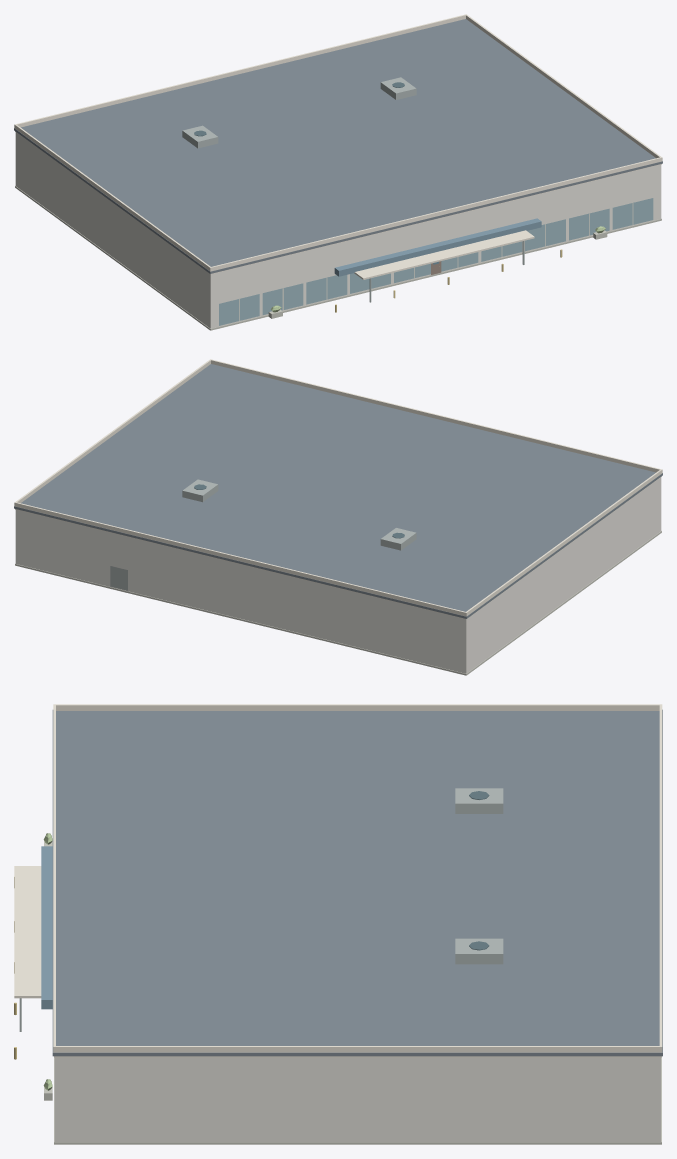
The model's file is shop-retail-warehouse.glb.
3 renders of one model, top to bottom at view 1: azimuth 30°, elevation 25°; view 2: azimuth 150°, elevation 25°; view 3: azimuth 270°, elevation 25°, orthographic. The views are drawn at different scales.
Parts seen in each view (by area): view 1: shop-retail-warehouse; view 2: shop-retail-warehouse; view 3: shop-retail-warehouse.
Part boxes in pixels (left/top/right/bottom): shop-retail-warehouse: left=14, top=14, right=662, bottom=330; shop-retail-warehouse: left=14, top=359, right=662, bottom=675; shop-retail-warehouse: left=14, top=704, right=662, bottom=1144.
Bounding box in the file's own units: 64.3 × 9.01 × 51.37.
